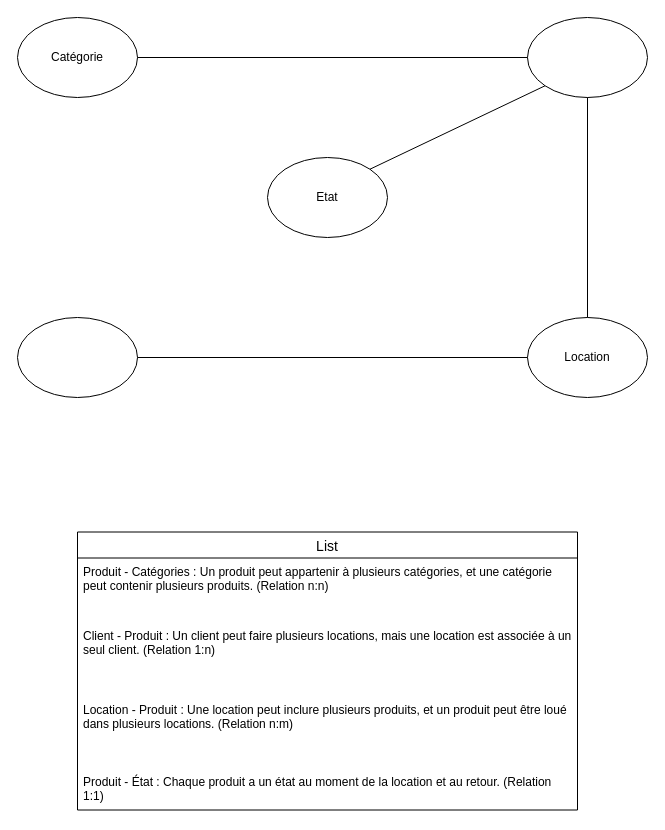
Image size: 665x830. Some labels were removed from this diagram. Here are the shapes that lost their labels. From the top down, the centre of each, then its label:
At (x=587, y=57): "Produit".
At (x=77, y=357): "Client".
